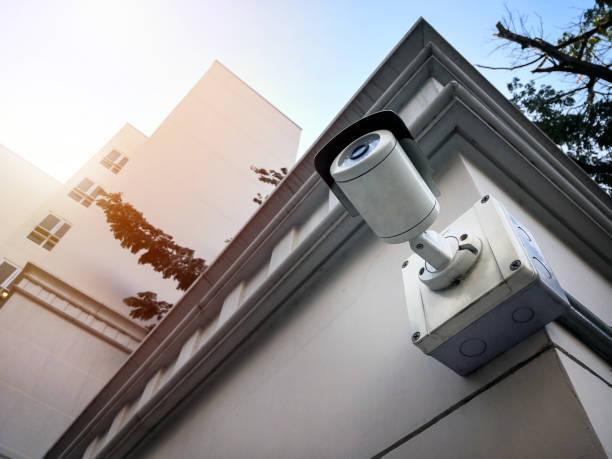camera: (305, 105, 458, 284)
